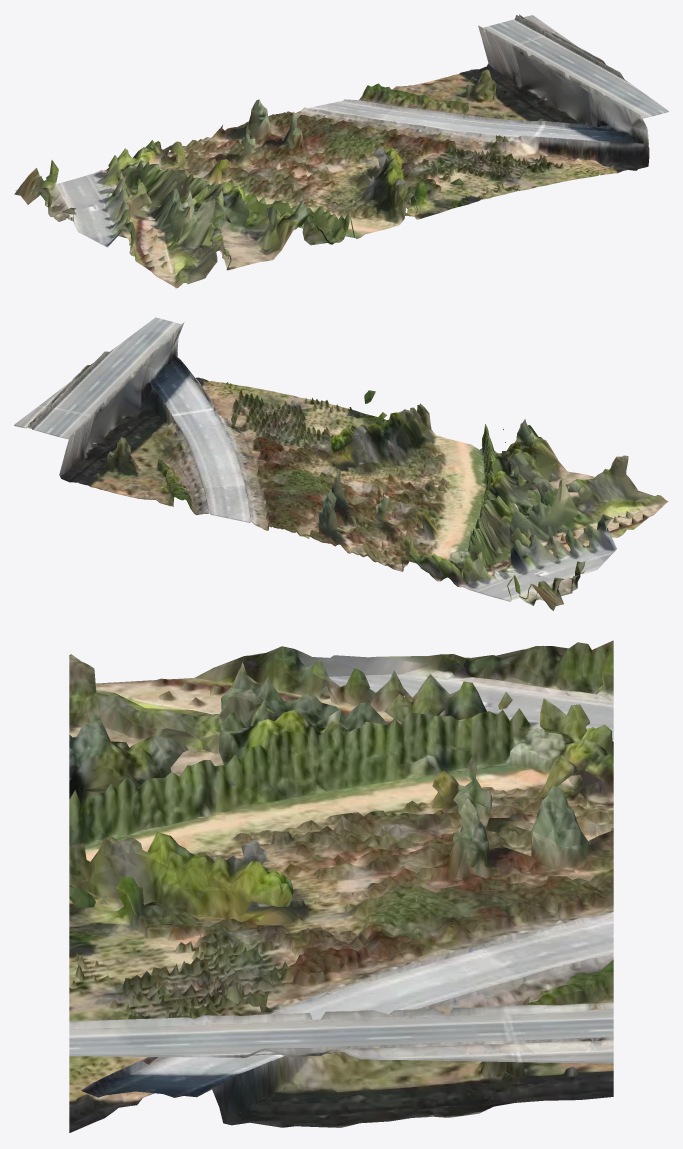
File: BlockYY_L17_37.glb
3 views of the same model, one above another, from view 1: azimuth 30°, elevation 25°; view 2: azimuth 150°, elevation 25°; view 3: azimuth 270°, elevation 25° (orthographic). The views are drawn at different scales.
Parts seen in each view (by area): view 1: rtc; view 2: rtc; view 3: rtc.
Boxes of the visible parts, bbox=[...] form: rtc: bbox=[14, 14, 668, 288]; rtc: bbox=[14, 317, 668, 610]; rtc: bbox=[69, 640, 613, 1132].
Size of the model in its own units: 161 by 19.34 by 73.27.
6 materials, 6 textured.
